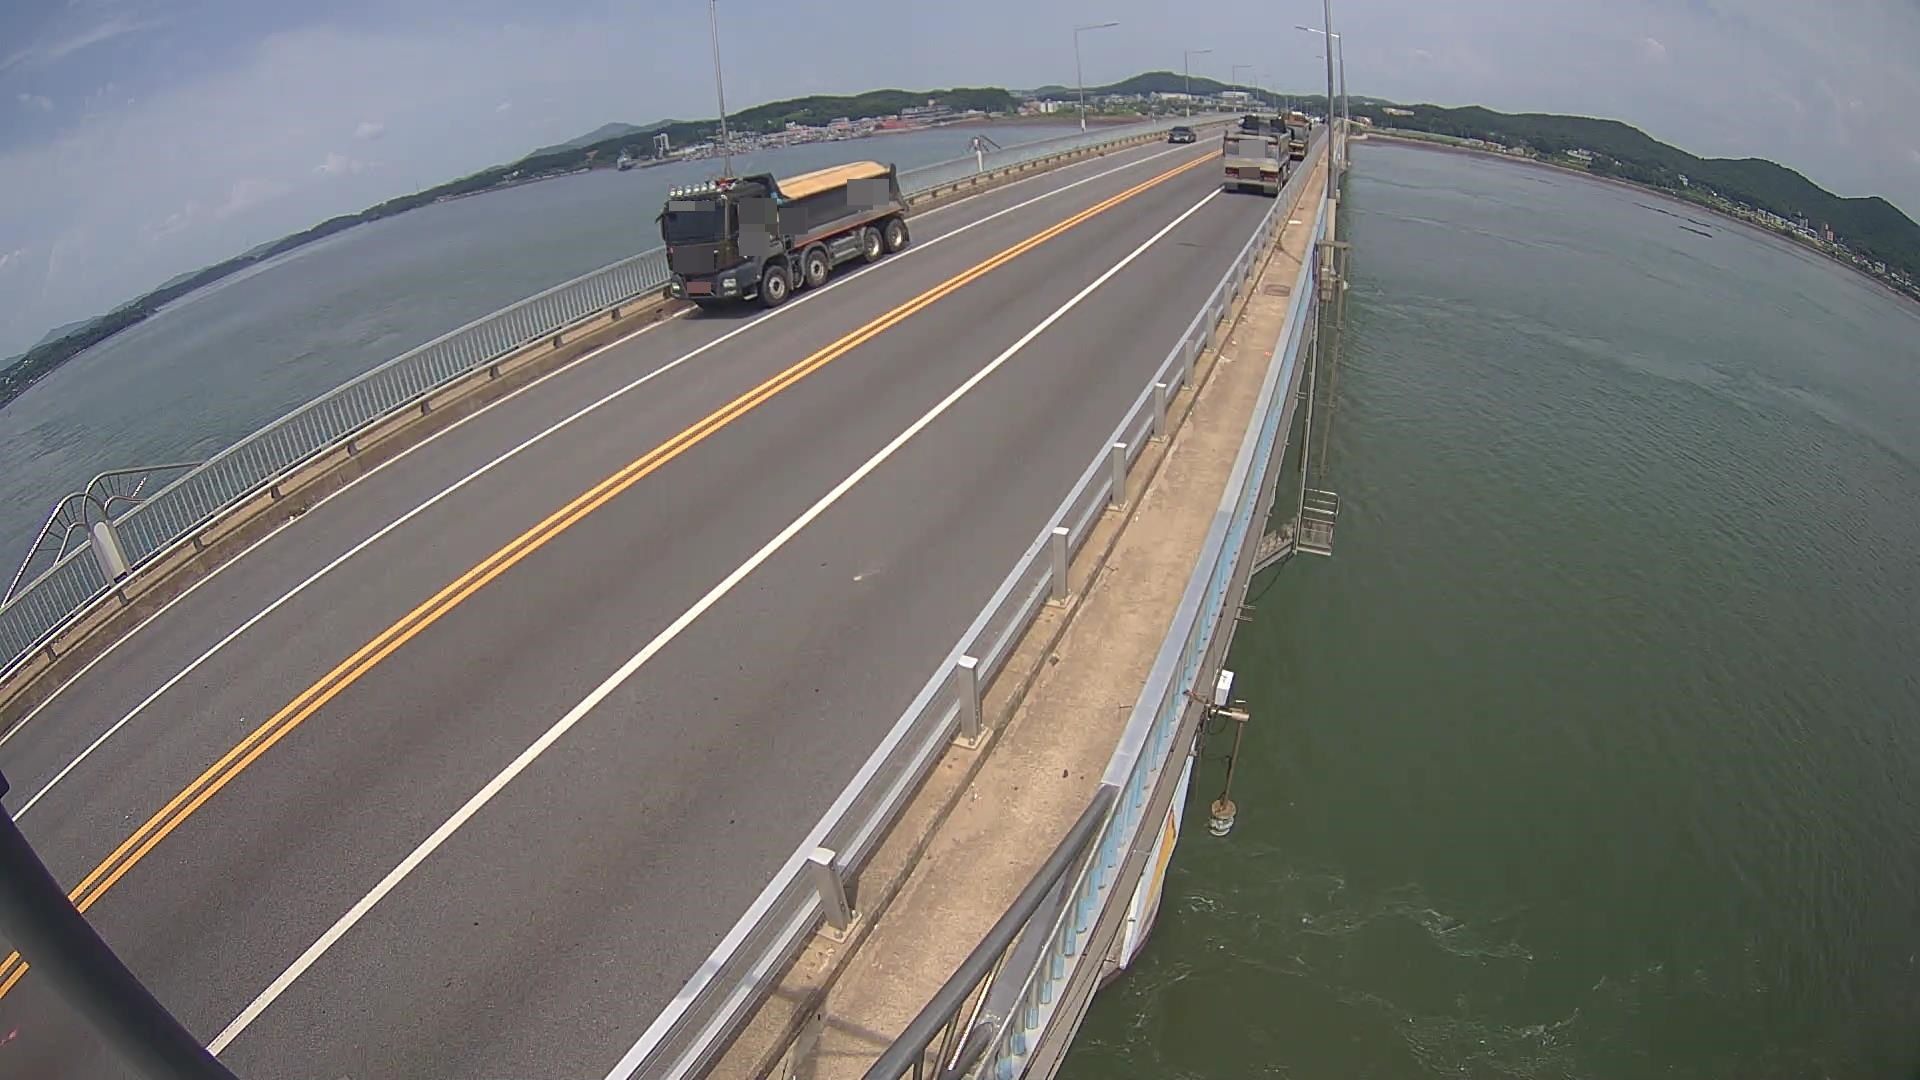정상차량: (654, 158, 910, 306)
